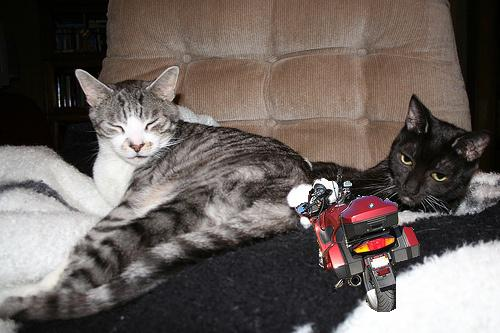tampered: (297, 168, 420, 312)
